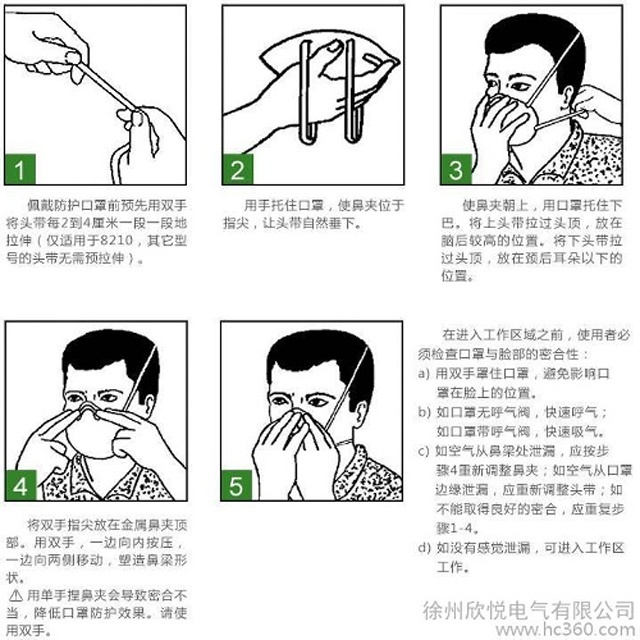mask: (261, 27, 401, 148), (63, 400, 139, 461)
